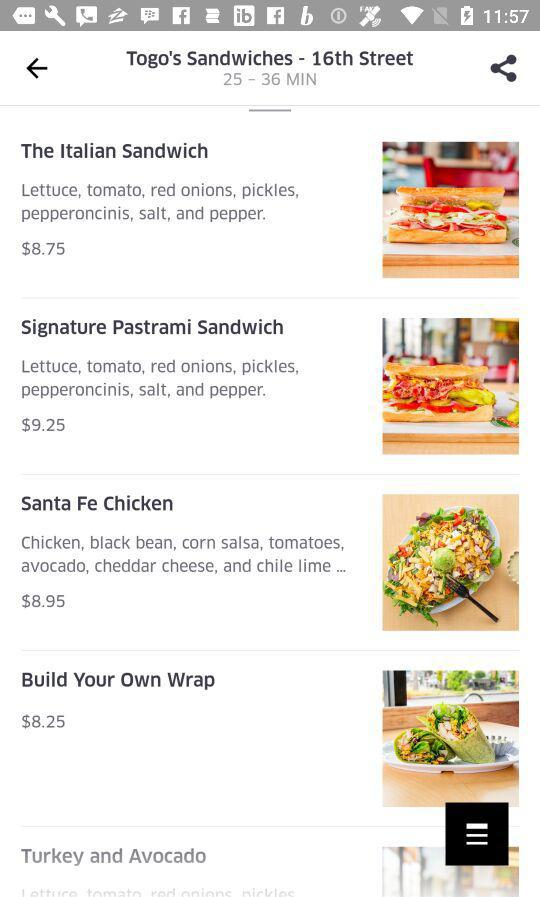Icon: (445, 801, 510, 866), (490, 55, 518, 84), (27, 59, 49, 80)
Image: (382, 318, 519, 455), (383, 670, 519, 807), (383, 494, 519, 631), (383, 142, 519, 279), (383, 847, 519, 897)
Text: (22, 535, 347, 575), (21, 359, 299, 400), (22, 183, 299, 224), (126, 51, 414, 70), (22, 319, 284, 339), (22, 671, 216, 691), (22, 847, 207, 867), (21, 143, 209, 160), (22, 495, 174, 512), (224, 73, 317, 87), (22, 714, 66, 730), (22, 417, 66, 433), (22, 241, 66, 257), (22, 594, 66, 609)
Toolbar: (1, 32, 540, 105)
UpperTaskBar: (1, 1, 540, 32)
